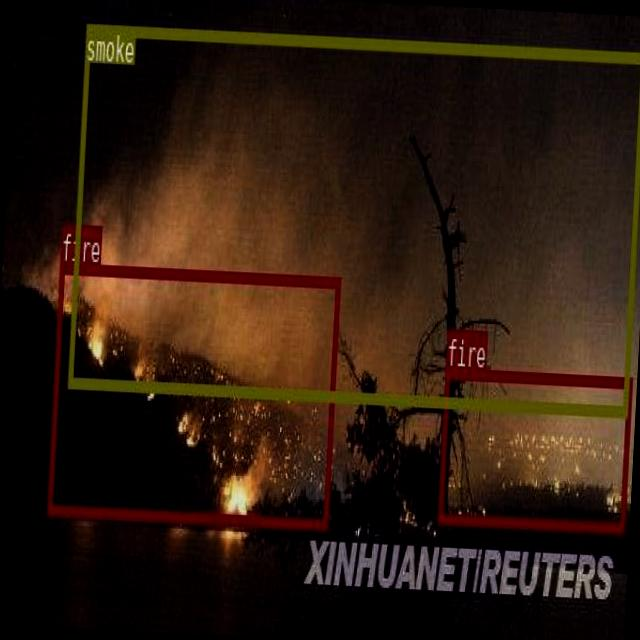fire: (47, 261, 340, 528), (437, 366, 632, 532)
smoke: (67, 22, 640, 415)
